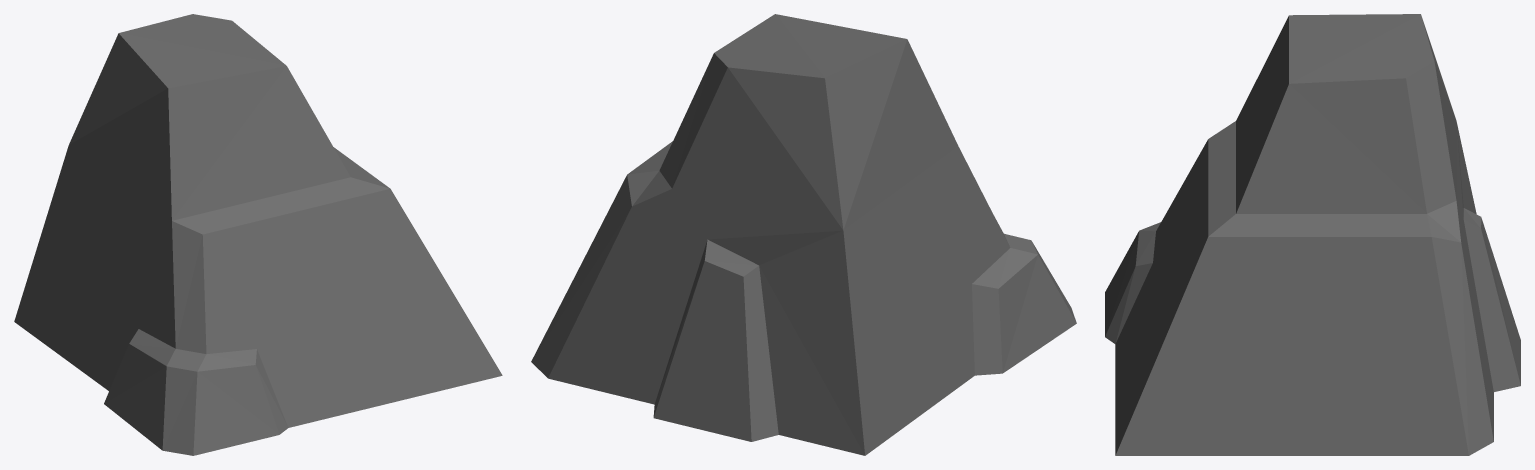
Rendered from StoneC.fbx.
3 views of the same model, side by side, from view 1: azimuth 30°, elevation 25°; view 2: azimuth 150°, elevation 25°; view 3: azimuth 270°, elevation 25° (orthographic). The views are drawn at different scales.
Visible parts, largest first — view 1: StoneC; view 2: StoneC; view 3: StoneC.
Part boxes in pixels (x1,y1,x2,y2): StoneC: [14, 14, 502, 455]; StoneC: [531, 14, 1076, 455]; StoneC: [1105, 14, 1520, 455].
Bounding box in the file's own units: 46.7 × 39.86 × 47.49.
